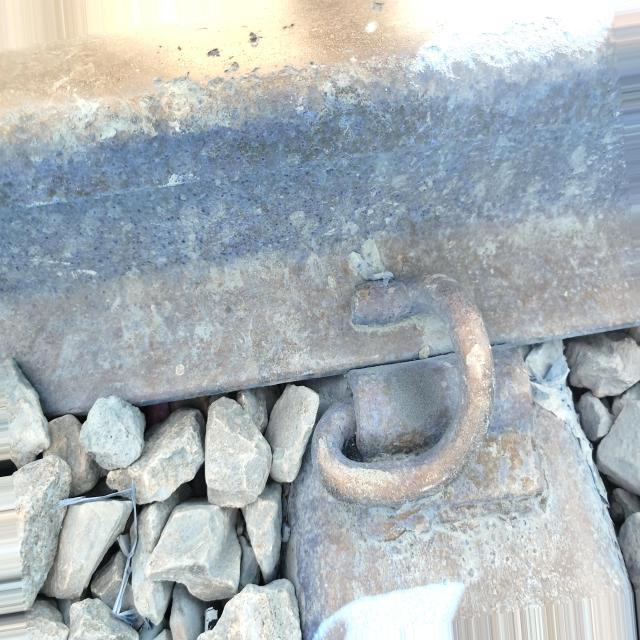Good Fasteners: (295, 241, 571, 558)
